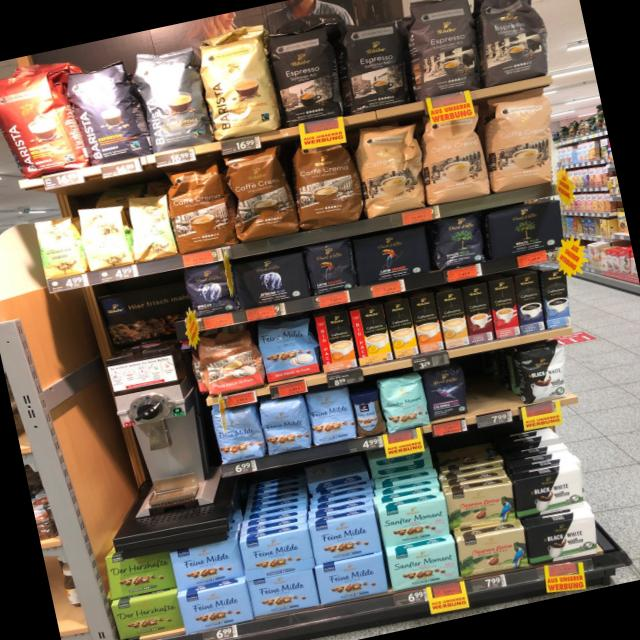AB Bohne: (181, 258, 242, 320)
AB Gemahlen: (230, 246, 314, 314)
Athiopien Bohne: (30, 212, 90, 282)
Athiopien Gemahlen: (120, 189, 180, 265), (75, 201, 134, 274)
BM Bohne: (428, 212, 488, 274)
BM Gemahlen: (481, 198, 570, 268)
BW Bohne: (512, 339, 575, 407)
BW Gemahlen: (522, 509, 603, 567), (512, 467, 584, 519)
Barista CB: (192, 29, 286, 144)
Barista CC: (127, 38, 217, 156)
Barista Espresso: (59, 53, 156, 169)
Barista Kolumbien: (0, 68, 95, 183)
C Fino Bohne: (421, 362, 472, 422)
CC Mild: (480, 88, 557, 194), (350, 119, 428, 220), (418, 112, 493, 208)
CC Vollmundig: (190, 326, 268, 402)
CC Vollmundig 36 Pads: (216, 145, 302, 246), (156, 160, 240, 258), (284, 136, 369, 232)
Colombia BB Gemahlen: (456, 524, 531, 577), (442, 480, 518, 531)
Empty Shelf: (461, 354, 515, 412)
Espresso M Art: (398, 0, 488, 103), (466, 0, 556, 89)
Espresso S Art: (262, 20, 347, 130), (329, 14, 416, 116)
FM 36 Pads: (253, 314, 324, 384)
FM Bohne: (208, 400, 268, 467), (256, 390, 314, 458), (304, 382, 359, 449)
FM Gemahlen: (174, 580, 254, 636), (312, 550, 391, 606), (168, 536, 246, 591), (244, 565, 322, 619), (237, 526, 315, 580), (306, 510, 383, 564)
FM Instant: (344, 387, 390, 442)
Herzhatfe Mundig: (102, 542, 180, 600), (109, 590, 184, 640)
LG Bohne: (302, 237, 359, 298)
LG Gemahlen: (348, 224, 432, 290)
SM Bohne: (373, 369, 432, 436)
SM Gemahlen: (383, 539, 461, 593), (376, 496, 452, 548)
Simo CCMild: (347, 302, 396, 366)
Simo CCMild bigpack: (382, 296, 419, 361)
Simo CCVollmundig: (312, 308, 358, 373)
Simo CCVollmundig bigpack: (407, 290, 445, 354)
Simo Decaff: (435, 287, 471, 352)
Simo Es Elegant: (487, 276, 522, 339)
Simo Es Kraft: (461, 281, 497, 345)
Simo Kaffee Kraft: (511, 270, 548, 336)
Simo Kaffee Mild: (539, 266, 573, 331)
